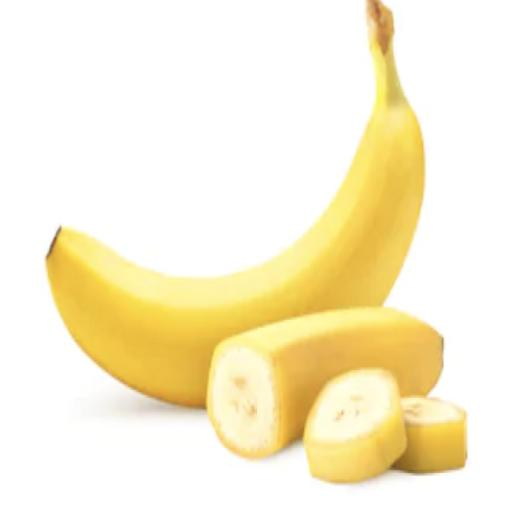banana: (207, 308, 443, 458), (305, 369, 406, 482), (394, 397, 467, 472)
